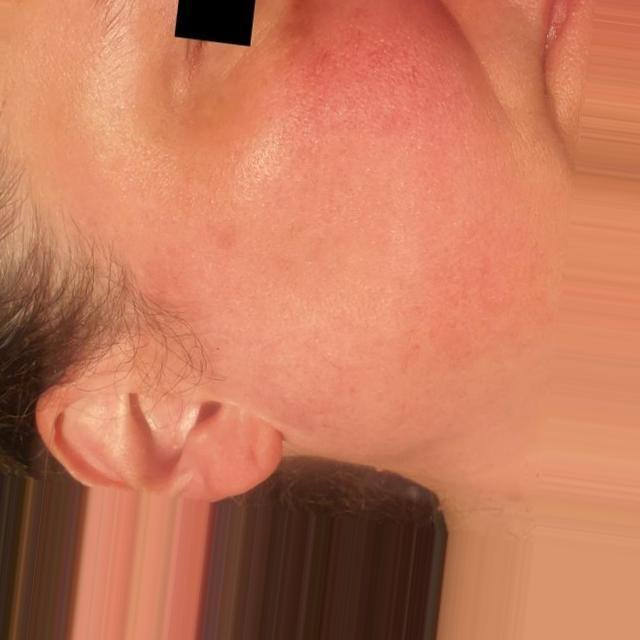Rosacea: (262, 0, 517, 358)
